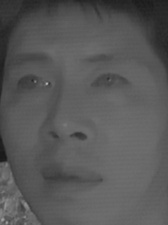eye: (89, 68, 132, 94), (13, 70, 53, 95)
mouth: (38, 159, 106, 197)
